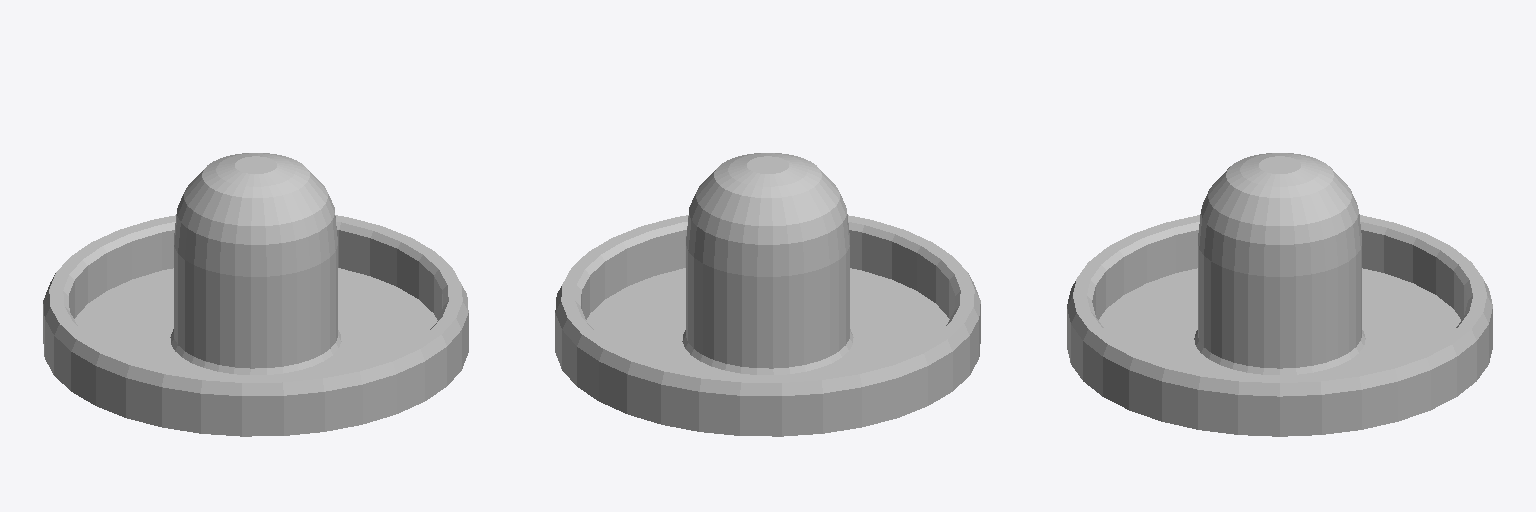
File: AirHockeyPad.obj
3 views of the same model, side by side, from view 1: azimuth 30°, elevation 25°; view 2: azimuth 150°, elevation 25°; view 3: azimuth 270°, elevation 25° (orthographic).
Visible parts, largest first — view 1: Circle_Circle.003; view 2: Circle_Circle.003; view 3: Circle_Circle.003.
Boxes of the visible parts, x1,y1,x2,y2 form: Circle_Circle.003: [43, 153, 468, 436]; Circle_Circle.003: [555, 153, 980, 436]; Circle_Circle.003: [1067, 153, 1492, 436].
Size of the model in its own units: 2 by 0.9393 by 2.